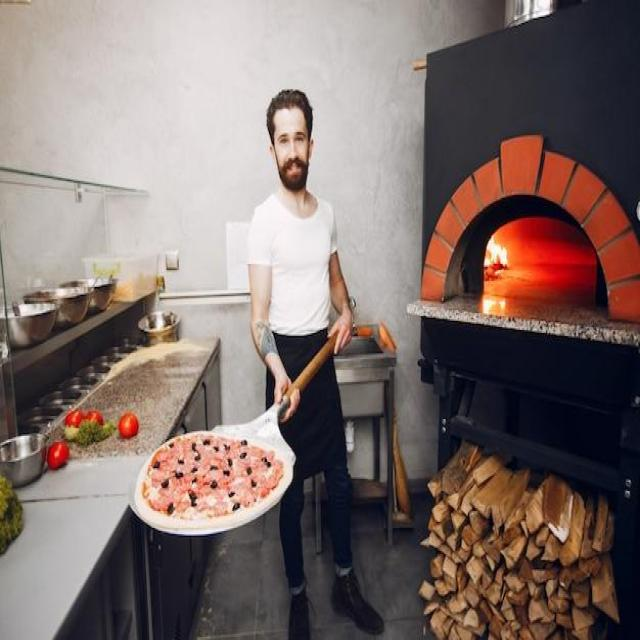olive: (188, 488, 198, 507), (260, 455, 271, 469), (160, 479, 170, 489), (167, 502, 175, 514), (192, 449, 200, 461), (239, 451, 247, 460), (228, 490, 237, 498), (232, 502, 241, 509), (174, 472, 184, 478), (227, 457, 233, 467), (176, 457, 184, 464), (224, 443, 232, 450), (210, 464, 218, 471), (210, 479, 216, 488), (246, 466, 252, 475), (251, 479, 257, 488), (213, 445, 220, 452), (154, 460, 160, 468), (191, 467, 198, 473), (223, 471, 230, 477), (169, 442, 175, 448), (242, 440, 248, 446), (192, 443, 197, 450), (192, 478, 197, 483)
pizza: (144, 434, 282, 517)
